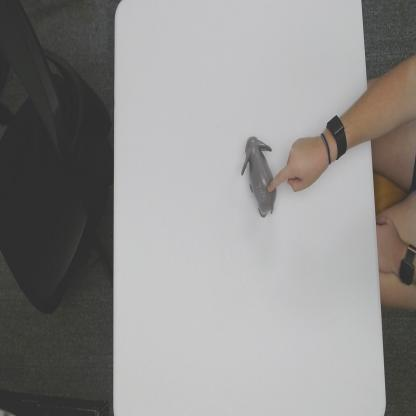Arm: (347, 86, 372, 150)
Elephant: (240, 134, 278, 219)
Hand: (266, 132, 330, 196)
